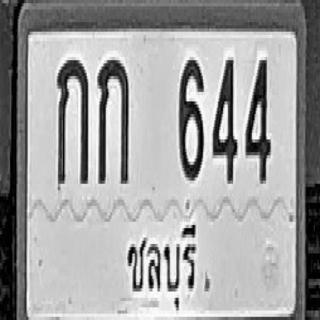A01: (57, 57, 88, 184), (97, 57, 128, 184)
N04: (244, 55, 271, 182), (212, 55, 237, 182)
N06: (179, 57, 204, 180)
P13: (121, 210, 203, 316)
